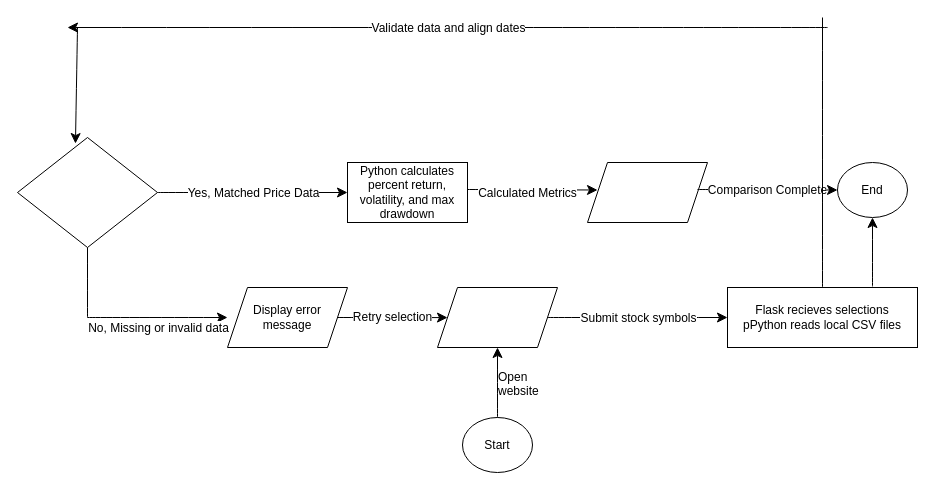
The diagram is 935 pixels wide and 490 high, and some of its shapes have lost their labels. The centre of each missing label's shape, as x and y in pixels:
"Enough valid data on macthing dates?" belongs at pixel 87 192.
"Flask and Jinja display an HTML comparison table" belongs at pixel 647 192.
"HTML/CSS form: Select two stocks" belongs at pixel 497 317.
